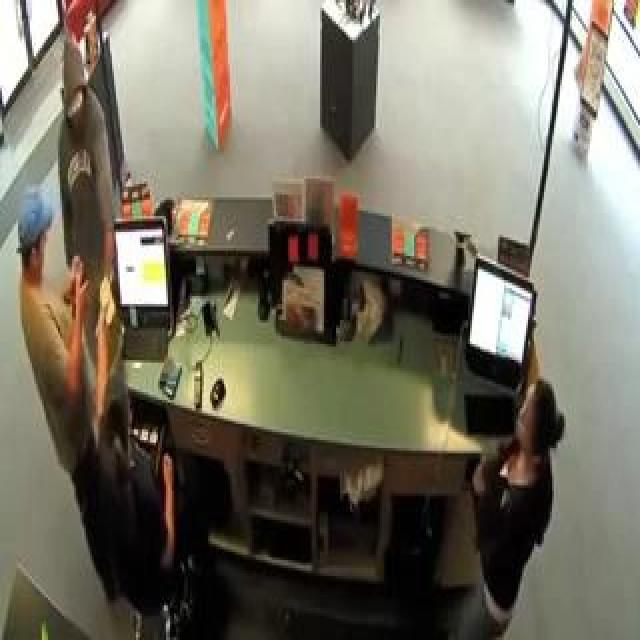high_con: (54, 37, 93, 133)
low_con: (13, 191, 54, 294)
no_con: (510, 378, 562, 472), (101, 372, 142, 468)
